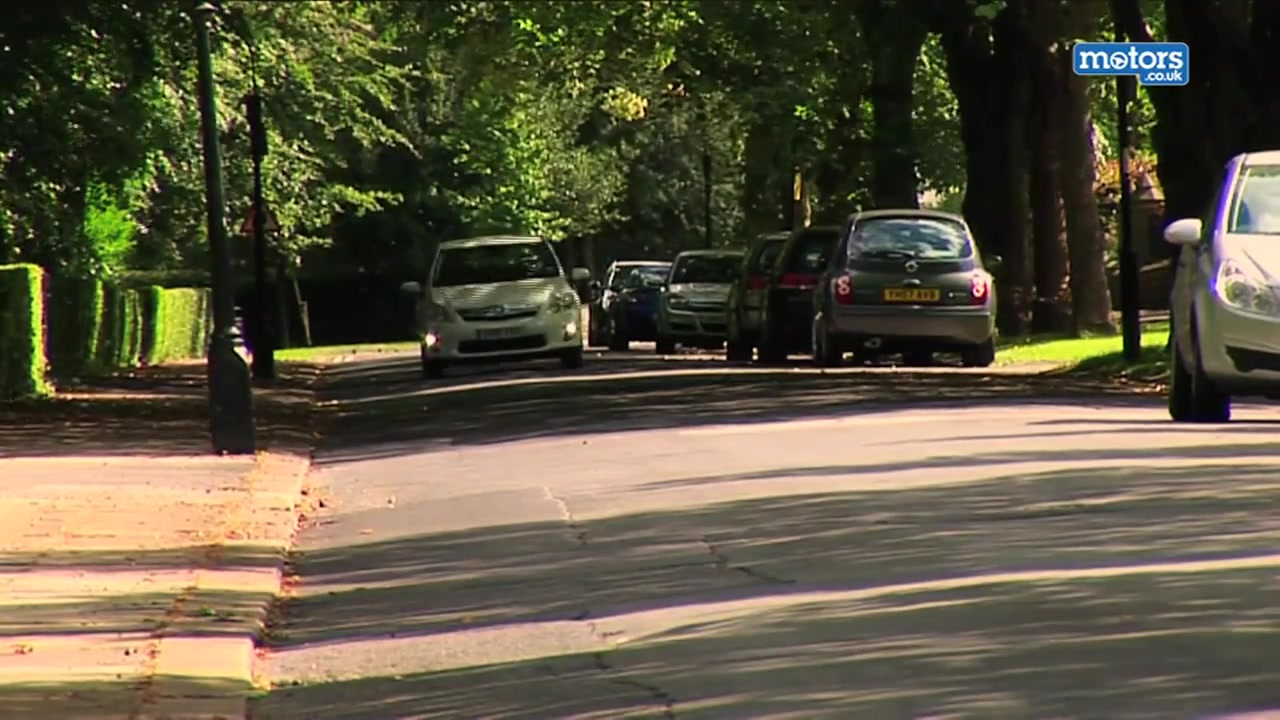car: (1156, 142, 1280, 427), (805, 206, 1007, 375), (403, 238, 594, 371), (766, 219, 857, 357), (729, 230, 800, 363), (651, 250, 744, 349), (588, 258, 681, 350)
